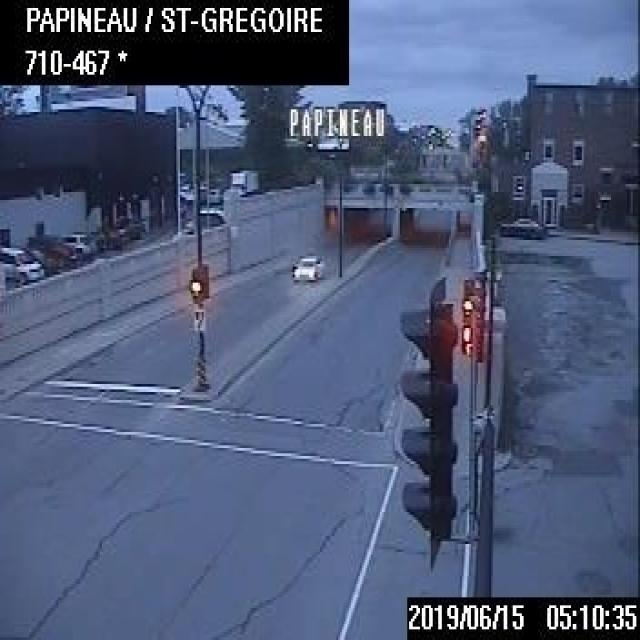vehicle: (27, 230, 77, 270), (0, 240, 45, 282), (54, 228, 98, 261), (496, 209, 545, 238), (225, 165, 261, 196), (291, 253, 322, 280)
